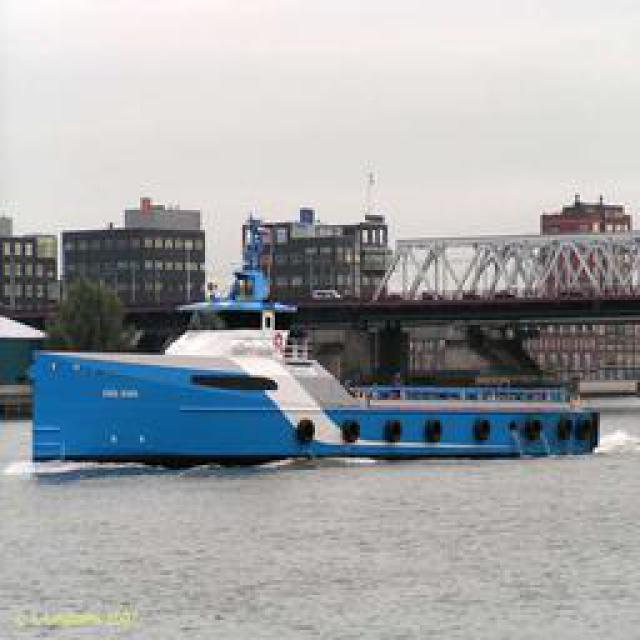Ship: (42, 307, 605, 467)
